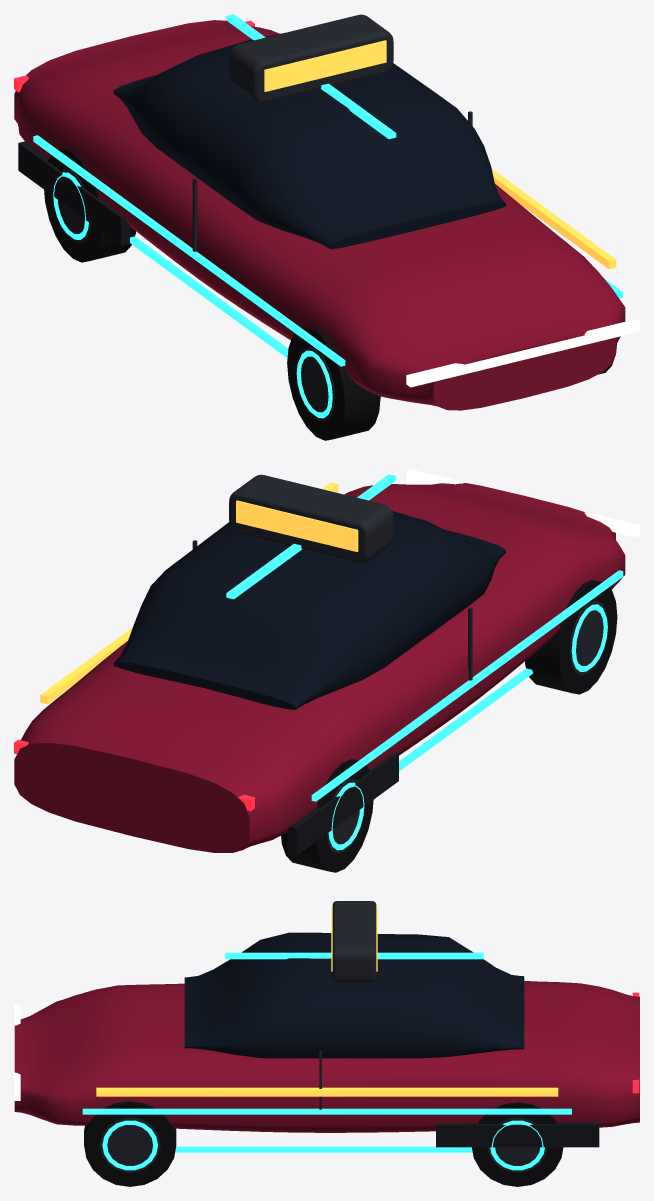
The model's file is tr_cab.glb.
3 renders of one model, top to bottom at view 1: azimuth 30°, elevation 25°; view 2: azimuth 150°, elevation 25°; view 3: azimuth 270°, elevation 25°, orthographic. The views are drawn at different scales.
Visible parts, largest first — view 1: paint, glass, trim, neon, rubber, light_amber, paint2, light_head; view 2: paint, glass, trim, neon, rubber, light_amber, paint2, light_head; view 3: paint, glass, neon, trim, rubber, light_amber, paint2.
Part boxes in pixels (x1,y1,x2,y2): paint: (14,20,625,410); glass: (113,33,505,249); trim: (58,14,472,421); neon: (33,14,623,418); rubber: (44,148,616,440); light_amber: (264,40,616,269); paint2: (18,141,129,245); light_head: (406,319,639,387); paint: (14,483,625,852); glass: (113,511,505,709); trim: (192,474,608,853); neon: (226,474,623,850); rubber: (281,580,617,872); light_amber: (40,482,358,704); paint2: (287,752,398,855); light_head: (406,469,639,537); paint: (14,981,639,1132); glass: (184,932,524,1058); neon: (82,952,571,1170); trim: (99,901,547,1172); rubber: (84,1101,563,1186); light_amber: (96,907,558,1096); paint2: (436,1122,599,1147).
Bounding box in the file's own units: 1.92 × 1.69 × 4.61.
